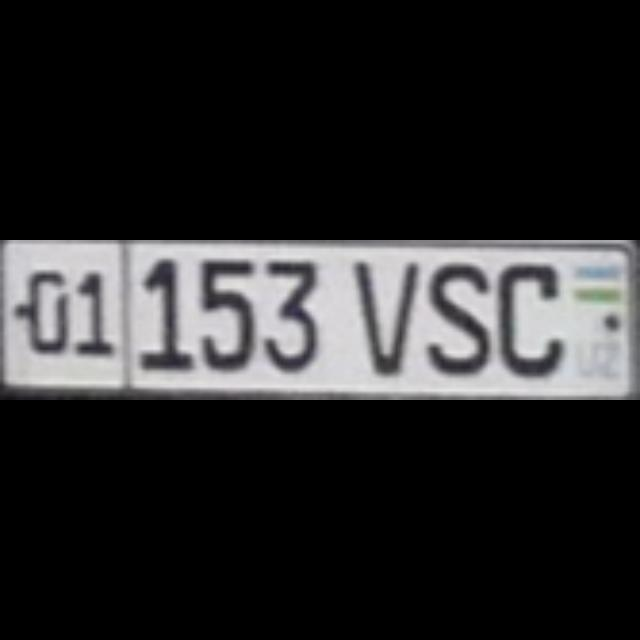0: (23, 267, 65, 351)
1: (134, 252, 188, 366), (69, 267, 107, 351)
3: (260, 252, 314, 366)
5: (195, 256, 252, 366)
C: (494, 260, 560, 374)
S: (418, 260, 487, 370)
V: (348, 256, 414, 370)
